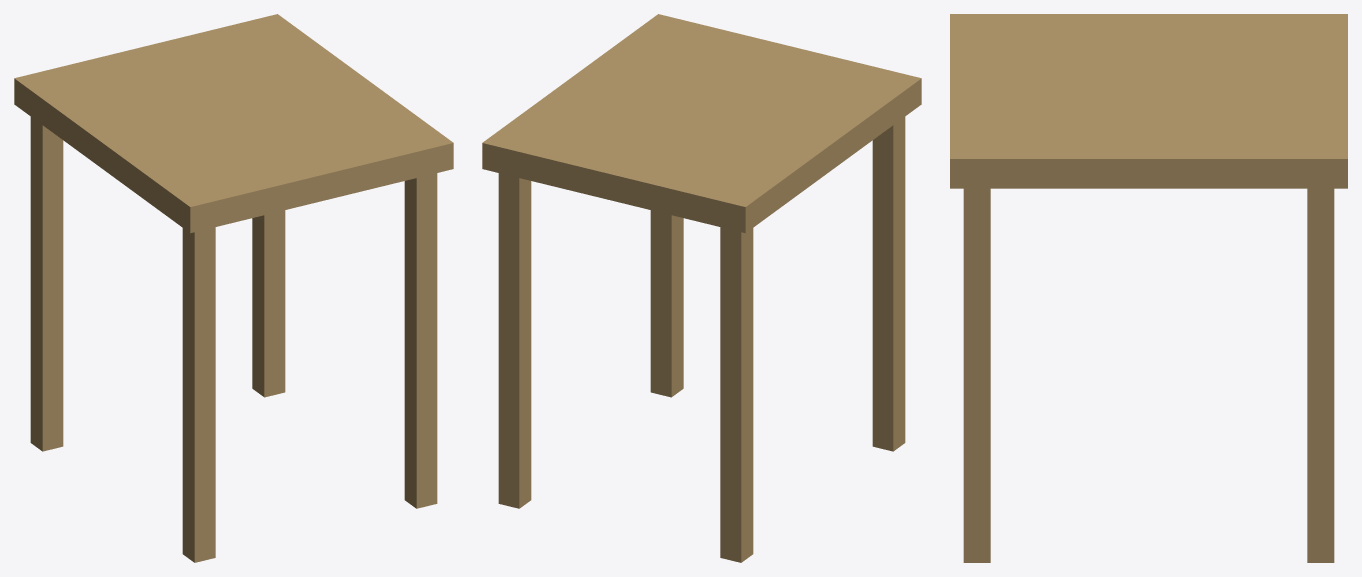
File: desk.glb
3 renders of one model, left to right at view 1: azimuth 30°, elevation 25°; view 2: azimuth 150°, elevation 25°; view 3: azimuth 270°, elevation 25°, orthographic. The views are drawn at different scales.
Visible parts, largest first — view 1: REF-L05-R01-desk-part-1, REF-L05-R01-desk-part-3, REF-L05-R01-desk-part-5, REF-L05-R01-desk-part-2, REF-L05-R01-desk-part-4; view 2: REF-L05-R01-desk-part-1, REF-L05-R01-desk-part-2, REF-L05-R01-desk-part-4, REF-L05-R01-desk-part-3, REF-L05-R01-desk-part-5; view 3: REF-L05-R01-desk-part-1, REF-L05-R01-desk-part-4, REF-L05-R01-desk-part-5.
Part boxes in pixels (left/top/right/bottom): REF-L05-R01-desk-part-1: left=14, top=14, right=453, bottom=233; REF-L05-R01-desk-part-3: left=182, top=227, right=215, bottom=562; REF-L05-R01-desk-part-5: left=404, top=173, right=437, bottom=508; REF-L05-R01-desk-part-2: left=30, top=117, right=63, bottom=451; REF-L05-R01-desk-part-4: left=252, top=210, right=285, bottom=397; REF-L05-R01-desk-part-1: left=482, top=14, right=921, bottom=233; REF-L05-R01-desk-part-2: left=720, top=227, right=753, bottom=562; REF-L05-R01-desk-part-4: left=498, top=173, right=531, bottom=508; REF-L05-R01-desk-part-3: left=872, top=117, right=905, bottom=451; REF-L05-R01-desk-part-5: left=650, top=210, right=683, bottom=397; REF-L05-R01-desk-part-1: left=950, top=14, right=1347, bottom=188; REF-L05-R01-desk-part-4: left=1307, top=188, right=1334, bottom=562; REF-L05-R01-desk-part-5: left=963, top=188, right=990, bottom=562.
Bounding box in the file's own units: 0.19 × 0.25 × 0.22.
